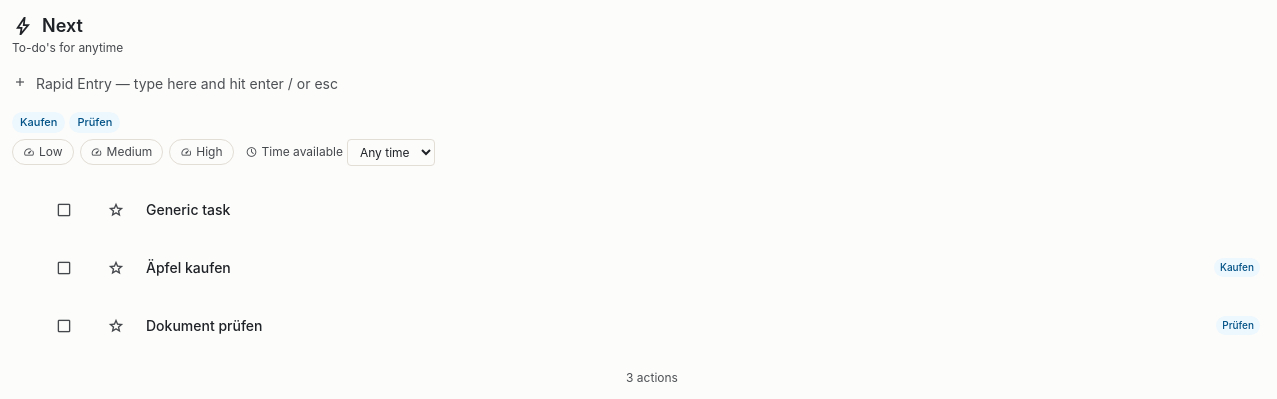
it: ActionList › type filter chips › clicking a chip filters the list and sets aria-pressed true
Click the button with aria-label "Filter by type: Kaufen".
click(39, 122)  # box [12,112,65,132]
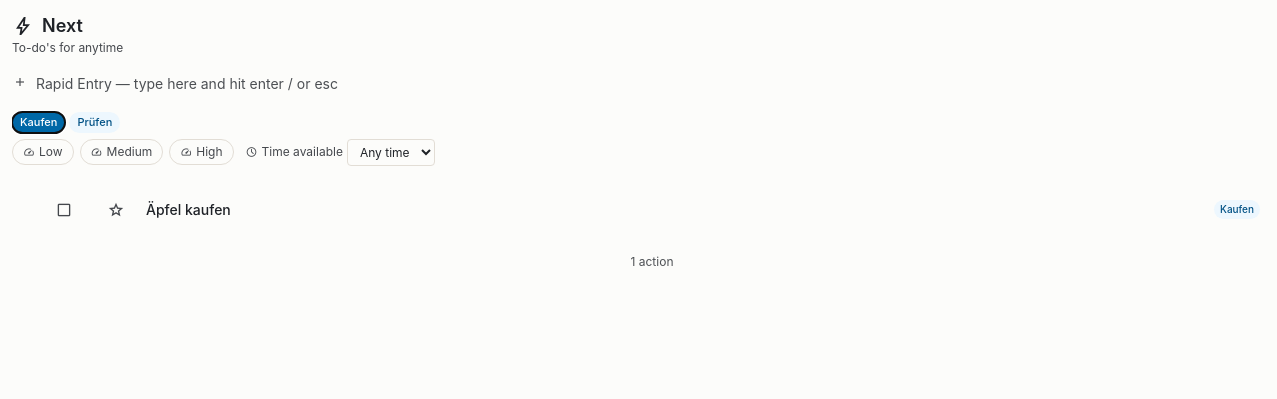
Expected: the button "Äpfel kaufen" is shown, [146,200,1158,220]
Now the button "Dokument prüfen" is gone
Now the button "Generic task" is gone
